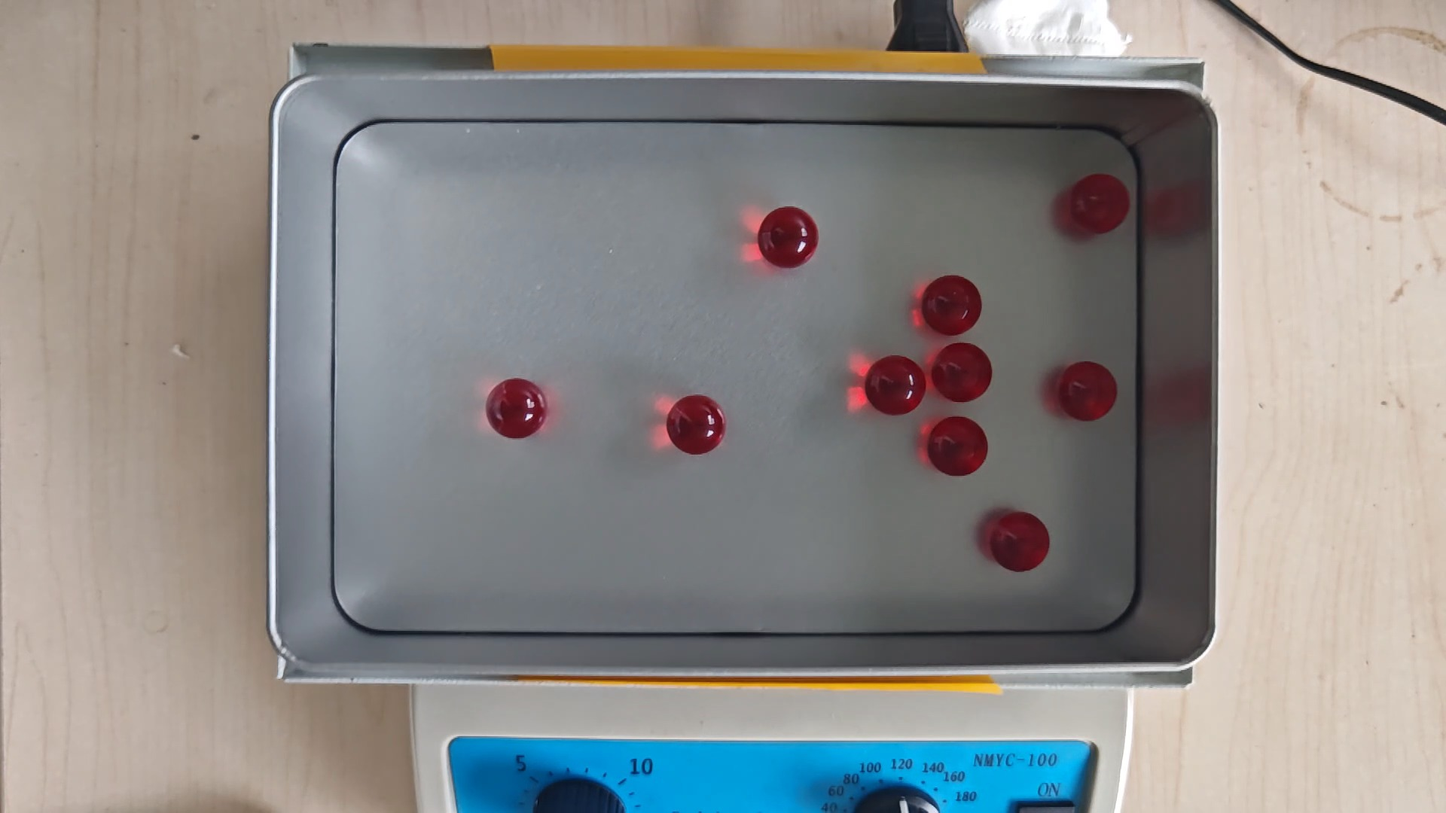ball: (486, 377, 547, 440), (758, 205, 818, 269), (865, 354, 925, 417), (932, 342, 993, 403), (928, 416, 989, 477), (990, 511, 1051, 572), (1058, 361, 1118, 423), (922, 274, 981, 336), (667, 393, 726, 455), (1071, 173, 1130, 234)
container: (333, 122, 1139, 634)
